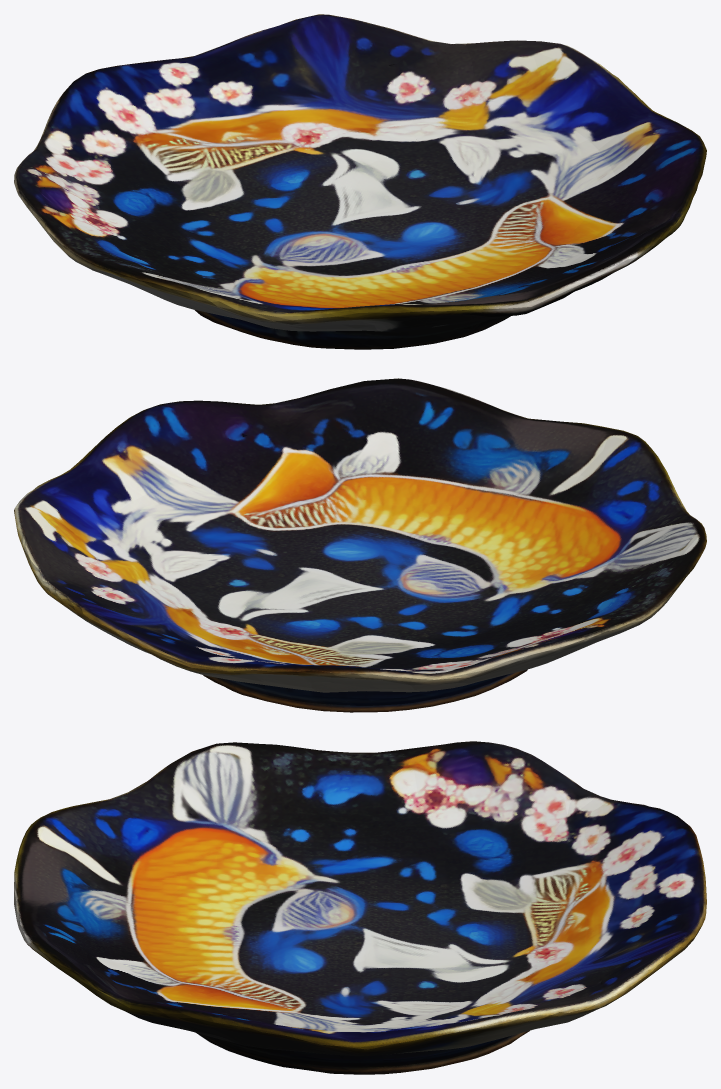
The model's file is ceramic-sushi-plate-japanese.jpeg.glb.
3 views of the same model, one above another, from view 1: azimuth 30°, elevation 25°; view 2: azimuth 150°, elevation 25°; view 3: azimuth 270°, elevation 25° (orthographic). The views are drawn at different scales.
Parts seen in each view (by area): view 1: world; view 2: world; view 3: world.
Part boxes in pixels (x1=…): world: x1=14, y1=14, x2=706, y2=349; world: x1=14, y1=378, x2=706, y2=712; world: x1=14, y1=741, x2=706, y2=1074.
Size of the model in its own units: 0.9963 by 0.1851 by 0.9976.
1 material, 1 textured.
